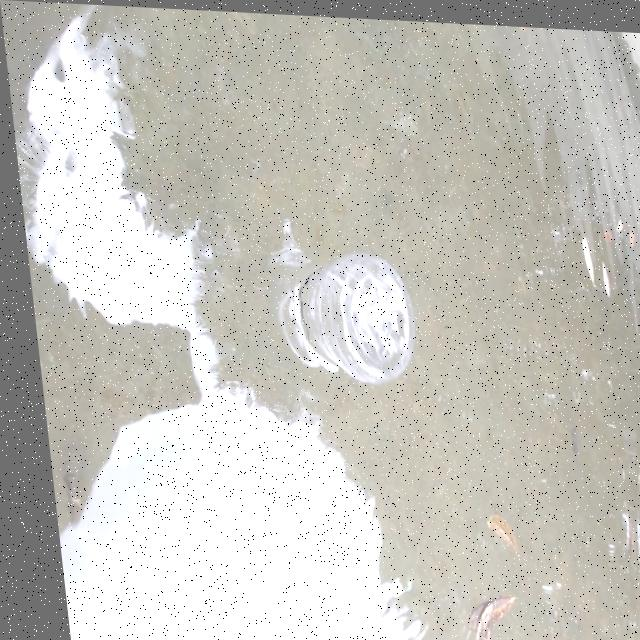leaf: (440, 573, 512, 640), (454, 504, 524, 560)
waterbottle: (217, 218, 419, 401)
